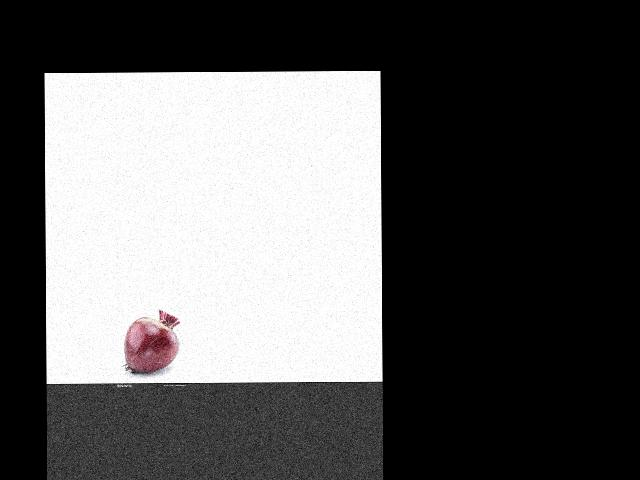beet: (124, 310, 180, 372)
